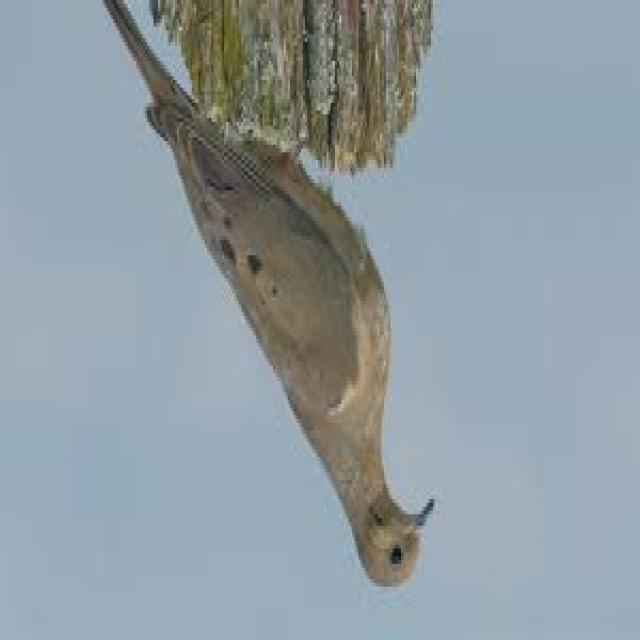pigeon: (100, 17, 440, 606)
